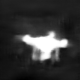plane: (15, 30, 71, 63)
